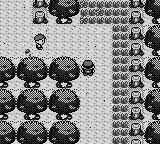captura: (79, 0, 128, 143)
main: (80, 60, 96, 77)
no-caminable: (0, 57, 79, 144), (129, 0, 145, 144), (144, 0, 160, 144), (48, 0, 79, 24), (31, 0, 49, 25)
npc: (33, 34, 46, 50)
